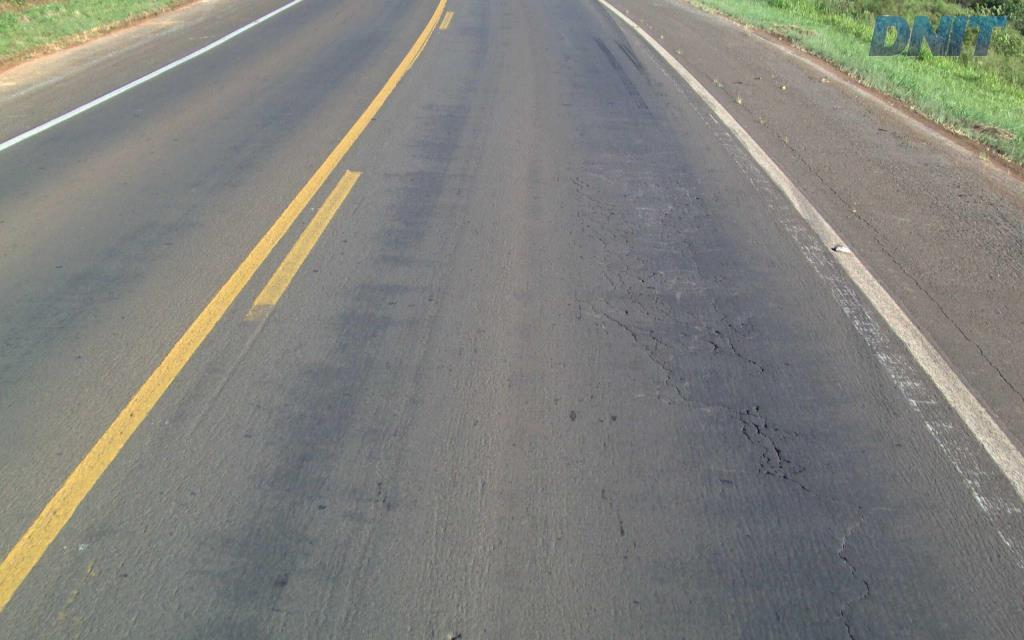crack: (662, 358, 699, 408)
